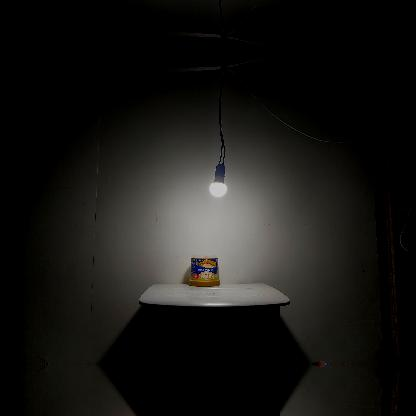Lady-s-Choice: (188, 254, 219, 286)
